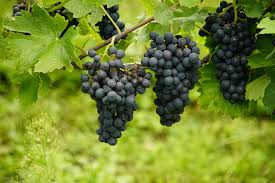anggur: (70, 53, 153, 150), (138, 30, 204, 131), (200, 6, 259, 109), (86, 6, 127, 45)
